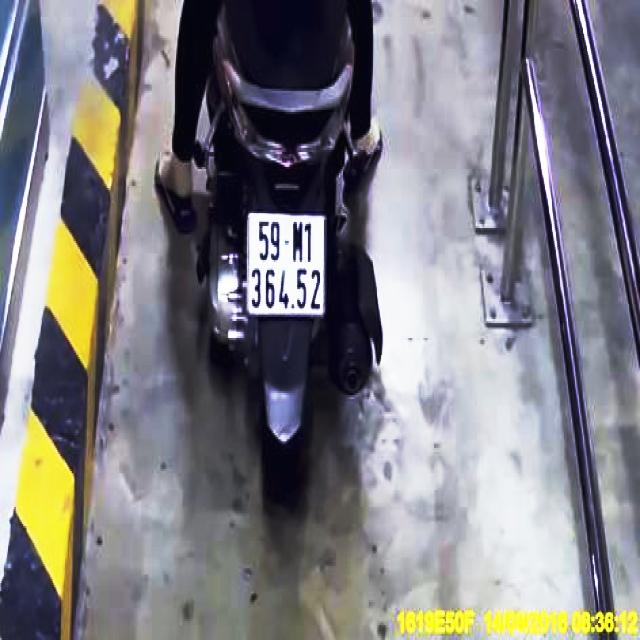license_plate: (251, 217, 326, 313)
